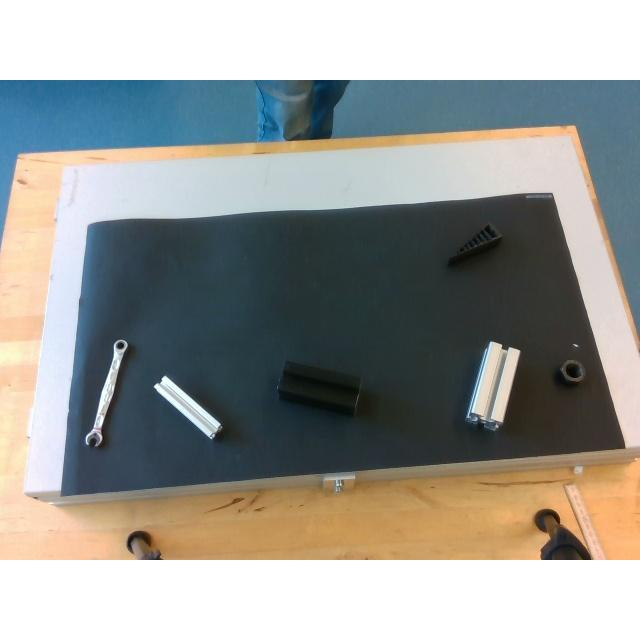F20_20_G: (154, 374, 222, 438)
M20: (558, 359, 588, 385)
S40_40_B: (278, 362, 360, 414)
S40_40_G: (466, 340, 518, 428)
Wrench: (85, 337, 132, 448)
